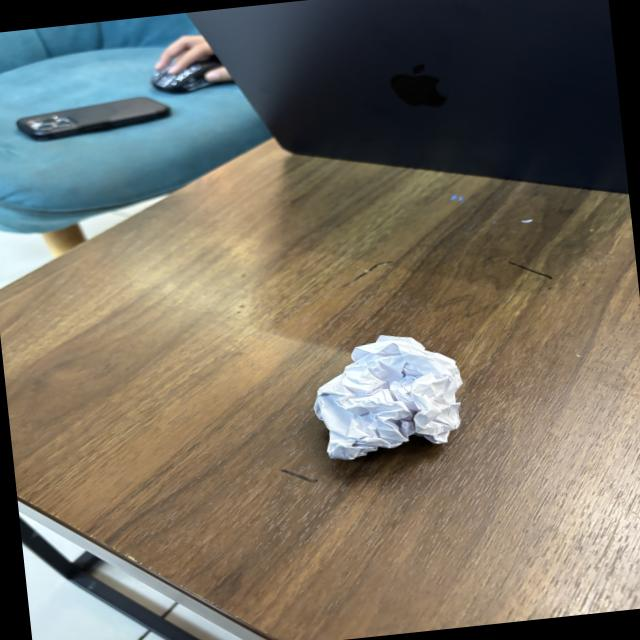crumpled_paper: (302, 322, 472, 471)
